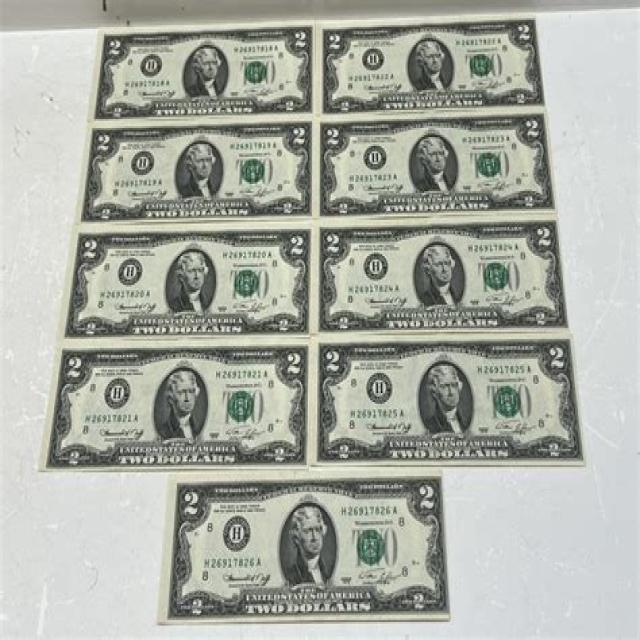Two: (159, 468, 453, 627), (31, 334, 314, 475), (316, 340, 587, 468), (56, 222, 316, 343), (313, 216, 575, 334), (69, 119, 316, 226), (319, 13, 547, 115), (313, 120, 560, 212), (86, 30, 319, 114)
